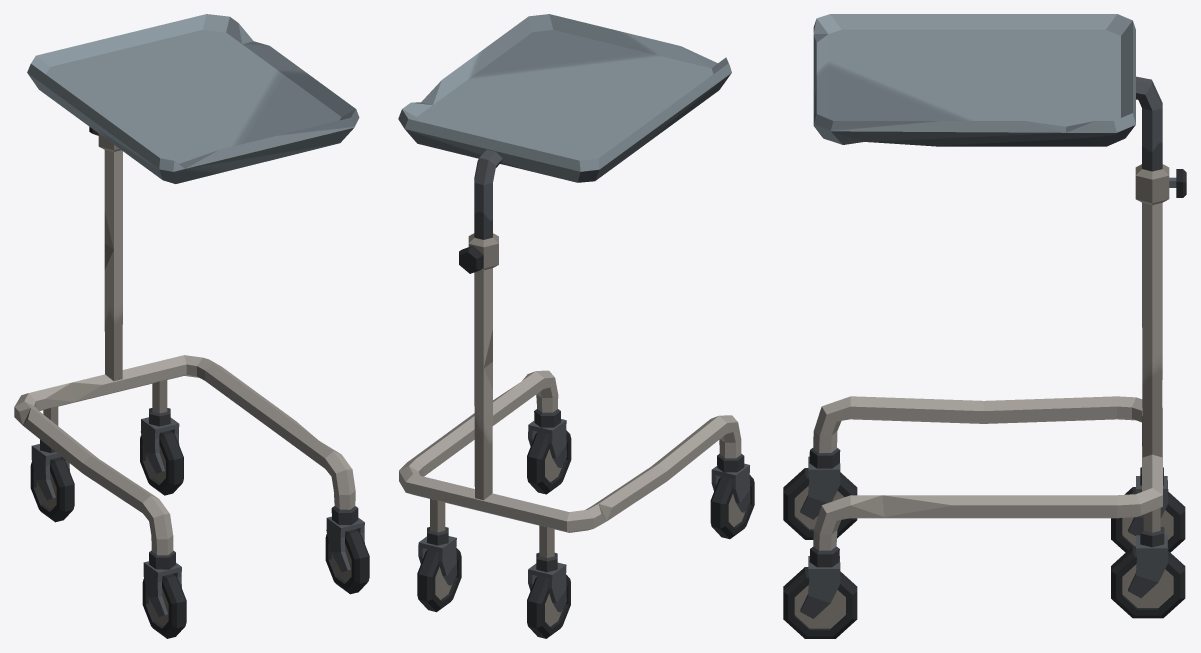
The model's file is SM_Prop_Tray_Tool_02.fbx.
3 views of the same model, side by side, from view 1: azimuth 30°, elevation 25°; view 2: azimuth 150°, elevation 25°; view 3: azimuth 270°, elevation 25° (orthographic). The views are drawn at different scales.
Visible parts, largest first — view 1: SM_Prop_Tray_Tool_02; view 2: SM_Prop_Tray_Tool_02; view 3: SM_Prop_Tray_Tool_02.
Part boxes in pixels (x1,y1,x2,y2): SM_Prop_Tray_Tool_02: (14, 14, 369, 638); SM_Prop_Tray_Tool_02: (398, 14, 754, 638); SM_Prop_Tray_Tool_02: (783, 14, 1186, 638).
Size of the model in its own units: 54.98 by 117 by 81.67.
Materials: 1 (1 with a texture image).
